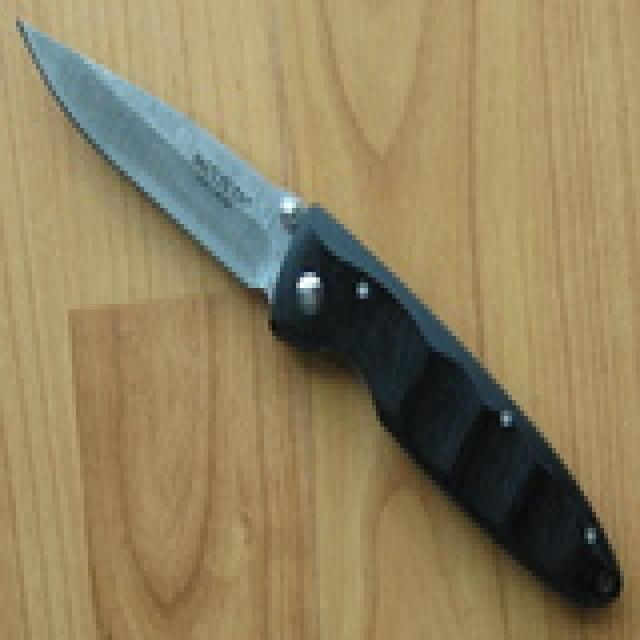Knife: (14, 11, 616, 602)
